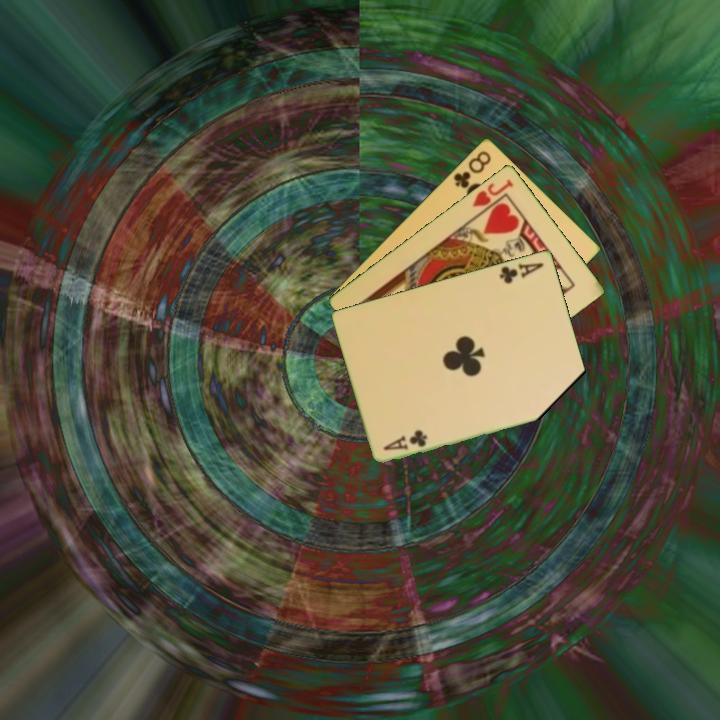8c: (450, 147, 494, 191)
Ac: (496, 259, 547, 286), (380, 426, 430, 453)
Jh: (469, 175, 517, 209)
